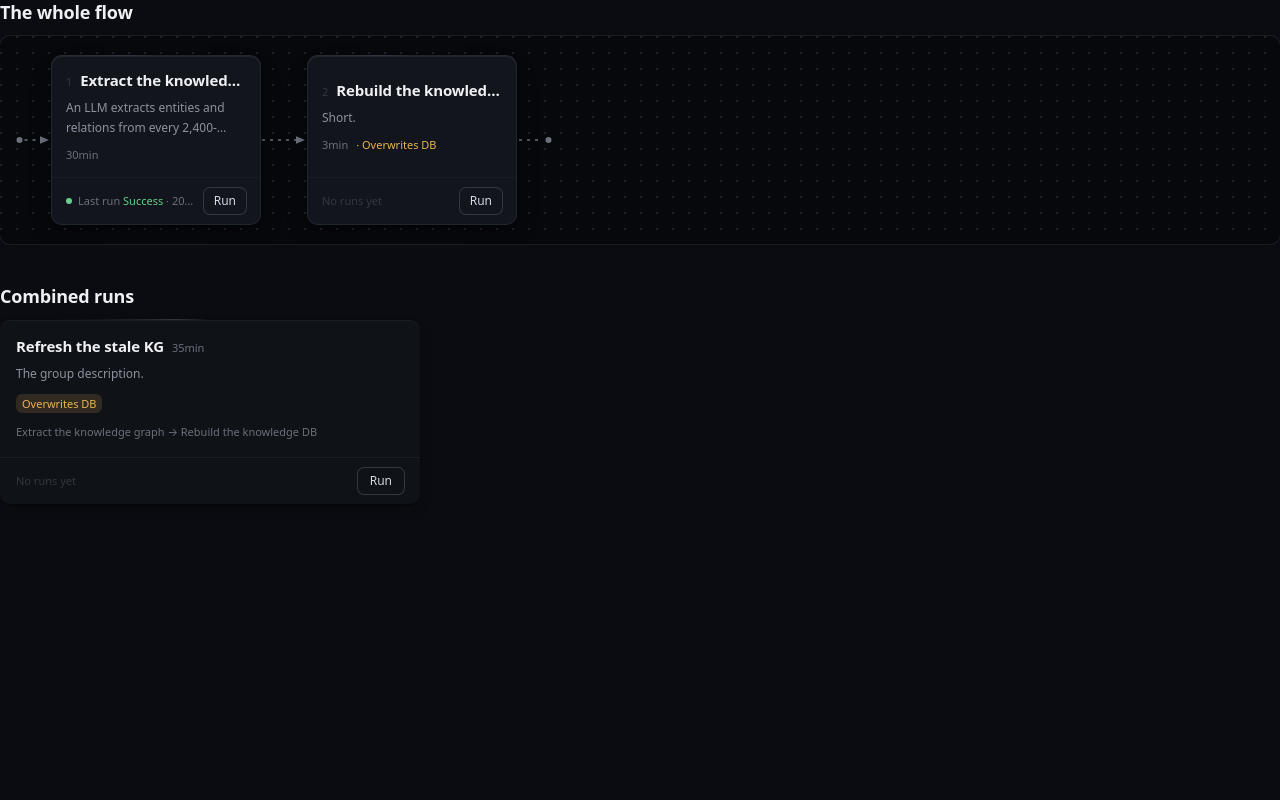
StepDetail — the full text of a truncated description › running **closes first**, then starts
Click the button "Extract the knowledge graph" at [156, 117], box [52,56,260,177]
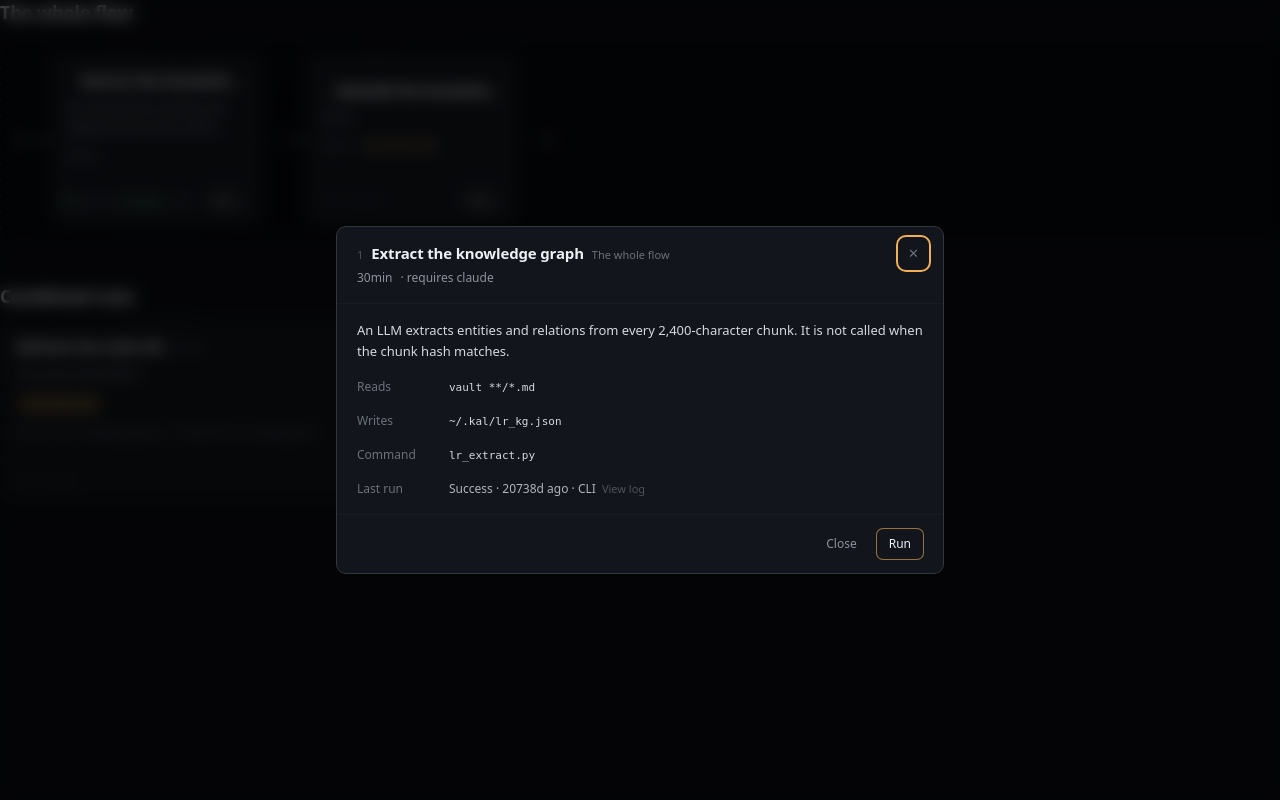
Click the button "Run" at [900, 544], box [877,529,923,559]
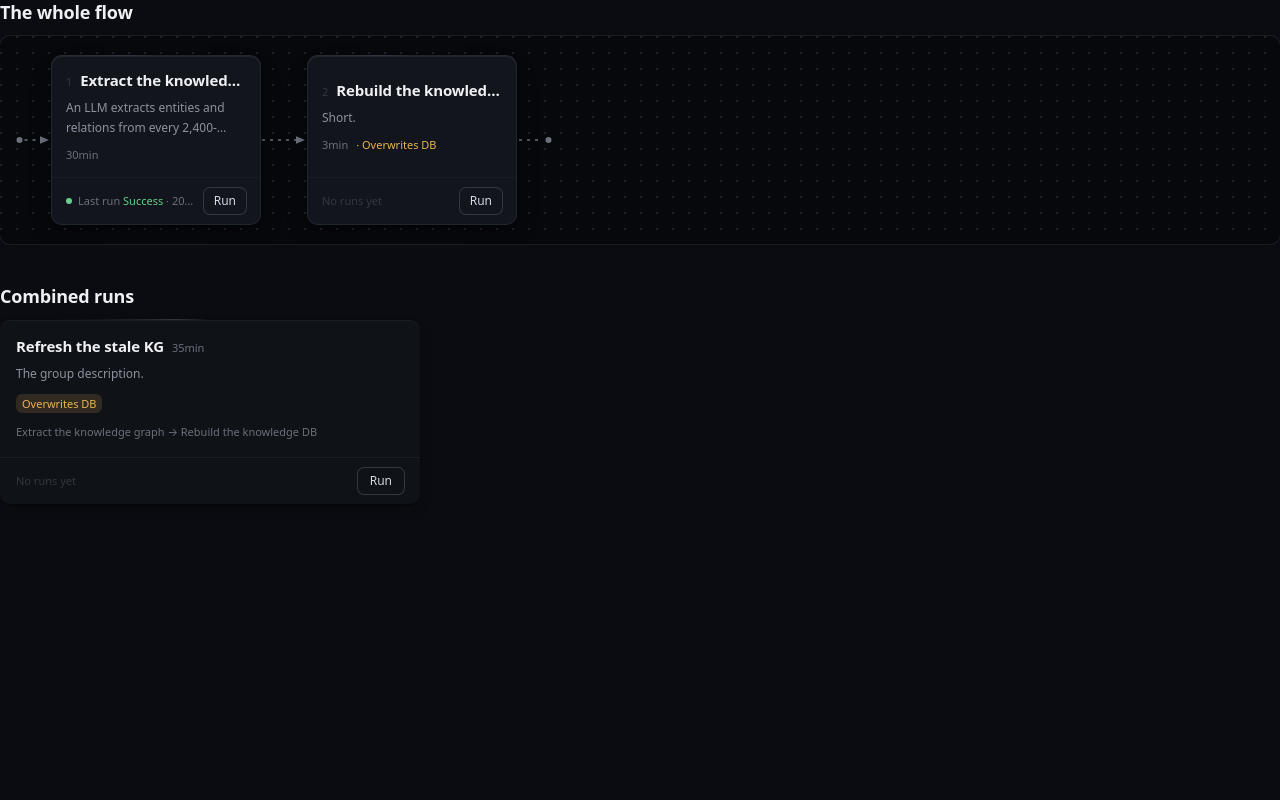
Check: the dialog is gone
